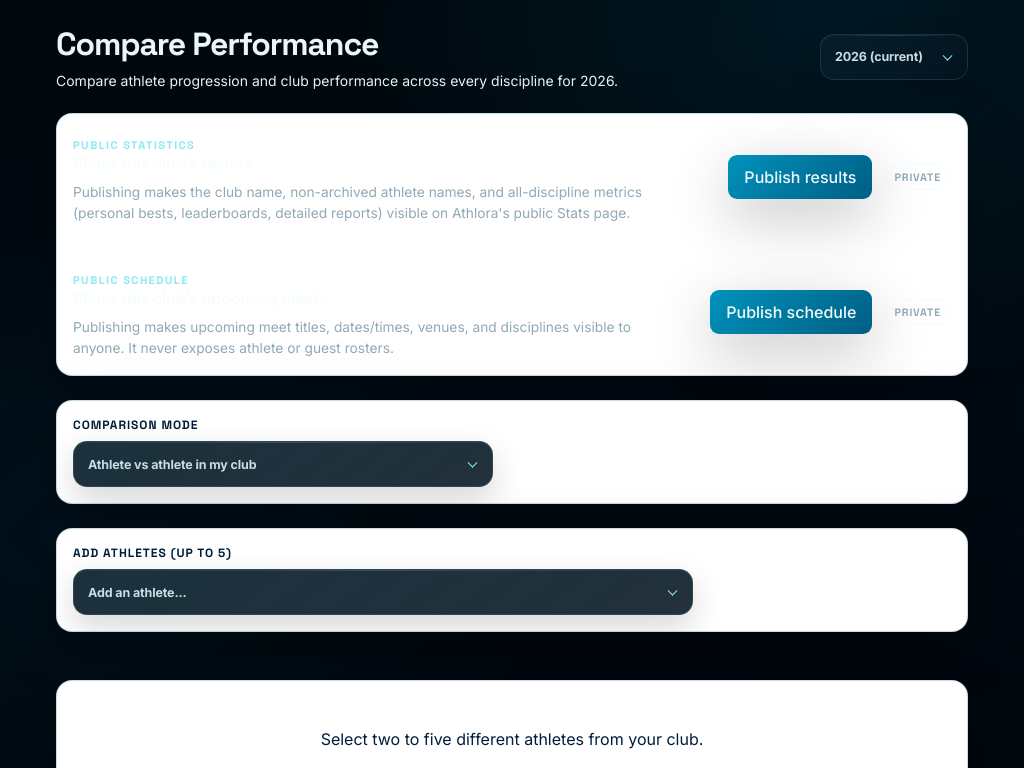
Test case: ComparisonPage › lets a coach publish the club results independently of the schedule
This screenshot has width=1024, height=768.
Click the button "Publish results".
click(800, 177)  # box [728,155,872,199]
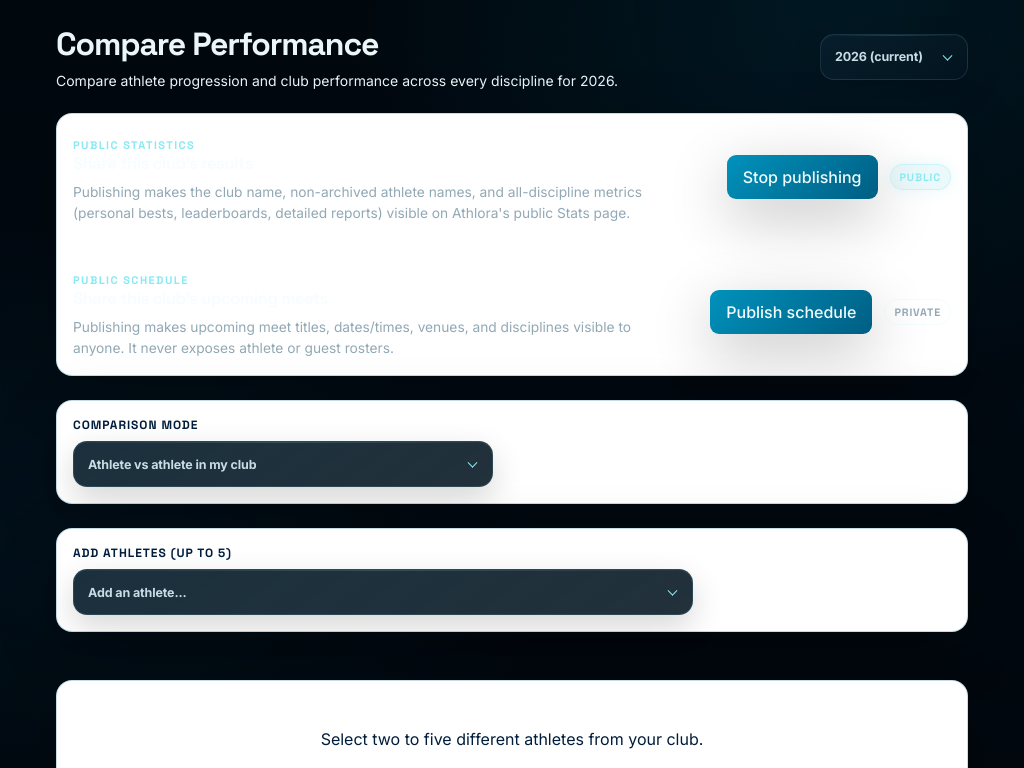
Expected: the text "Private" is shown once, [884,299,951,325]
Expected: the button "Stop publishing" is shown, [727,155,878,199]
Expected: the text "Public" is shown once, [890,164,951,190]
